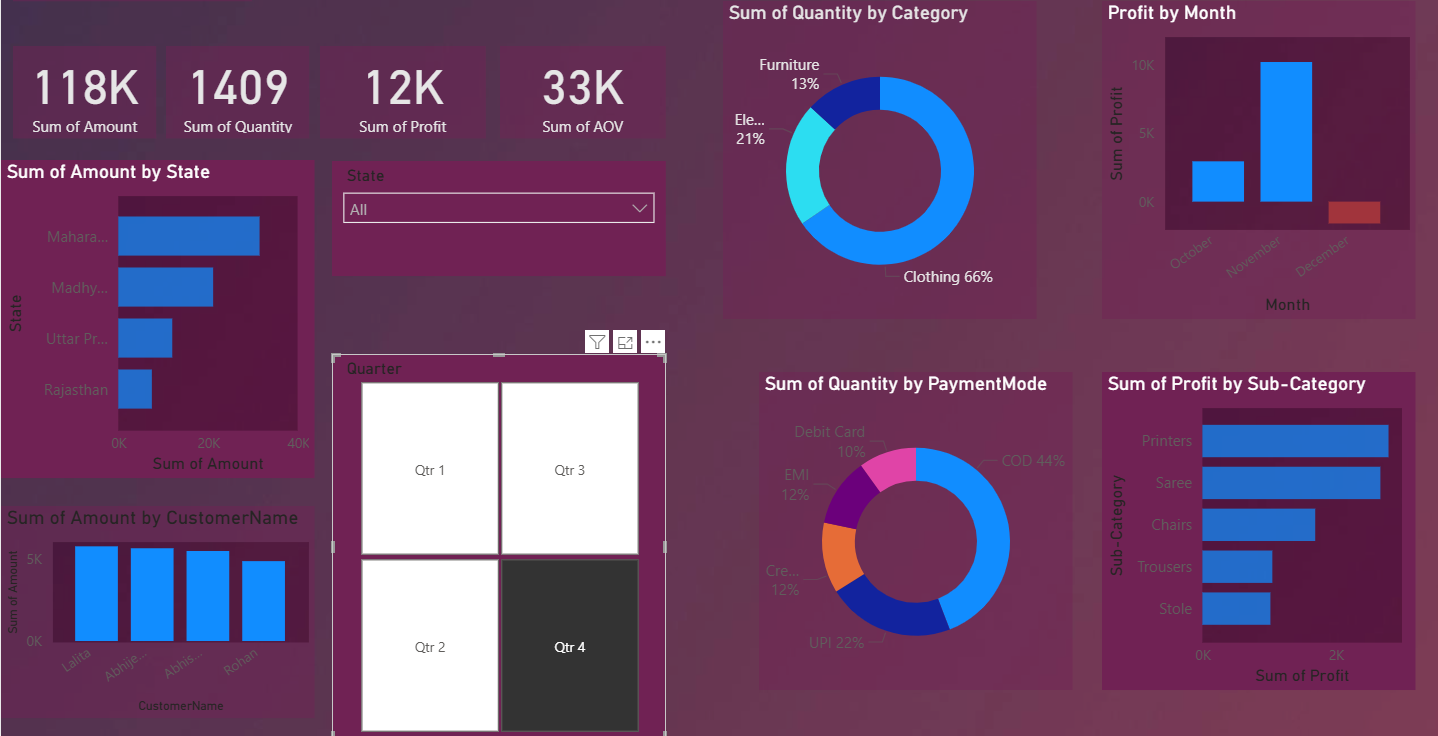

This screenshot's page, from the dashboard's own definition file:
{"tool":"powerbi","page":{"name":"Page 1","canvas":[1280,720],"ordinal":0},"visuals":[{"type":"textbox","box":[10.7,0,212,65.2],"z":0},{"type":"columnChart","title":"Profit by Month","fields":{"Category":["Orders.Order Date.Variation.Date Hierarchy.Month"],"Y":["Details.Profit"]},"box":[976.3,65.1,278.4,282],"z":1000},{"type":"barChart","fields":{"Category":["Details.Sub-Category"],"Y":["Details.Profit"]},"box":[976.3,394.1,278.4,282],"z":2000},{"type":"donutChart","fields":{"Category":["Details.Category"],"Y":["Details.Quantity"]},"box":[640,65.1,278.4,282],"z":3000},{"type":"donutChart","fields":{"Category":["Details.PaymentMode"],"Y":["Details.Quantity"]},"box":[672.5,394.1,278.4,282],"z":4000},{"type":"card","fields":{"Values":["Details.Amount"]},"box":[10.7,105,127.4,81.7],"z":5000},{"type":"card","fields":{"Values":["Details.Quantity"]},"box":[145.9,105,127.4,81.7],"z":6000},{"type":"card","fields":{"Values":["Details.Profit"]},"box":[283,105,146.9,81.7],"z":7000},{"type":"card","fields":{"Values":["Details.AOV"]},"box":[442.6,105,146.9,81.7],"z":8000},{"type":"barChart","fields":{"Category":["Orders.State"],"Y":["Details.Amount"]},"box":[0,206.1,278.4,282],"z":9000},{"type":"columnChart","fields":{"Category":["Orders.CustomerName"],"Y":["Details.Amount"]},"box":[0,512.6,278.2,187.7],"z":10000},{"type":"slicer","fields":{"Values":["Orders.State"]},"box":[293.7,206.2,295.7,102.1],"z":11000},{"type":"slicer","fields":{"Values":["Orders.Order Date.Variation.Date Hierarchy.Quarter"]},"box":[293.7,377.4,295.7,342.4],"z":12000}]}

Visuals, with their boxes on the page's 1280x720 design canvas (x1, y1, x2, y2). These are canvas units, not pixel positions in the 1438x736 screenshot, which may show the page scaled, cropped or inside an application window:
textbox: 11,0,223,65
"Profit by Month" columnChart: 976,65,1255,347
barChart - Details.Sub-Category x Details.Profit: 976,394,1255,676
donutChart - Details.Category x Details.Quantity: 640,65,918,347
donutChart - Details.PaymentMode x Details.Quantity: 672,394,951,676
card - Details.Amount: 11,105,138,187
card - Details.Quantity: 146,105,273,187
card - Details.Profit: 283,105,430,187
card - Details.AOV: 443,105,590,187
barChart - Orders.State x Details.Amount: 0,206,278,488
columnChart - Orders.CustomerName x Details.Amount: 0,513,278,700
slicer - Orders.State: 294,206,589,308
slicer - Orders.Order Date.Variation.Date Hierarchy.Quarter: 294,377,589,720
